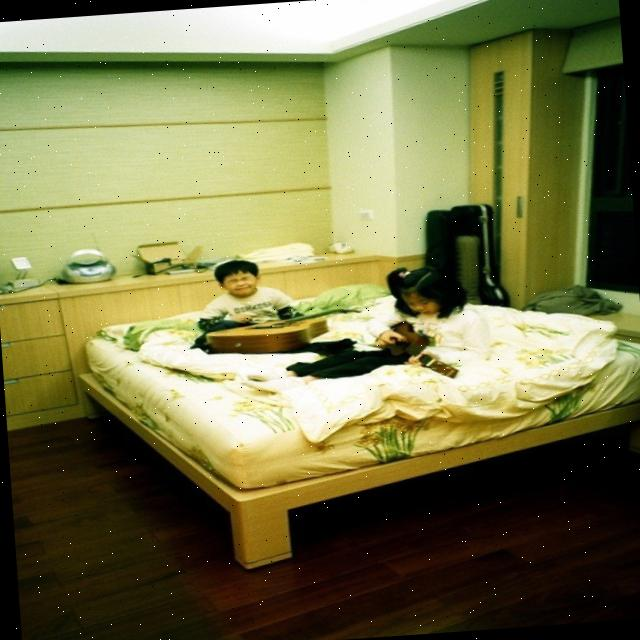guitar: (202, 302, 368, 355)
